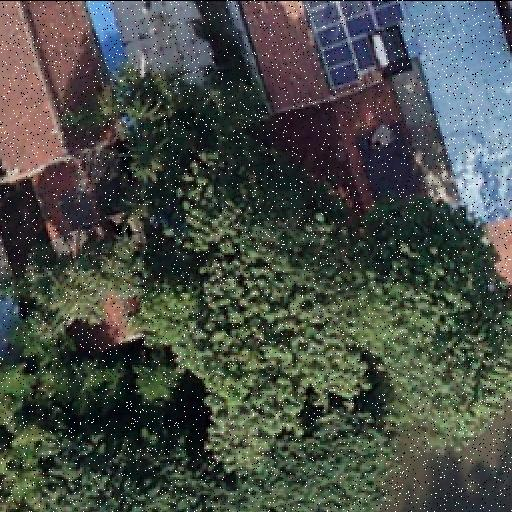solar-panel: (304, 0, 404, 88)
